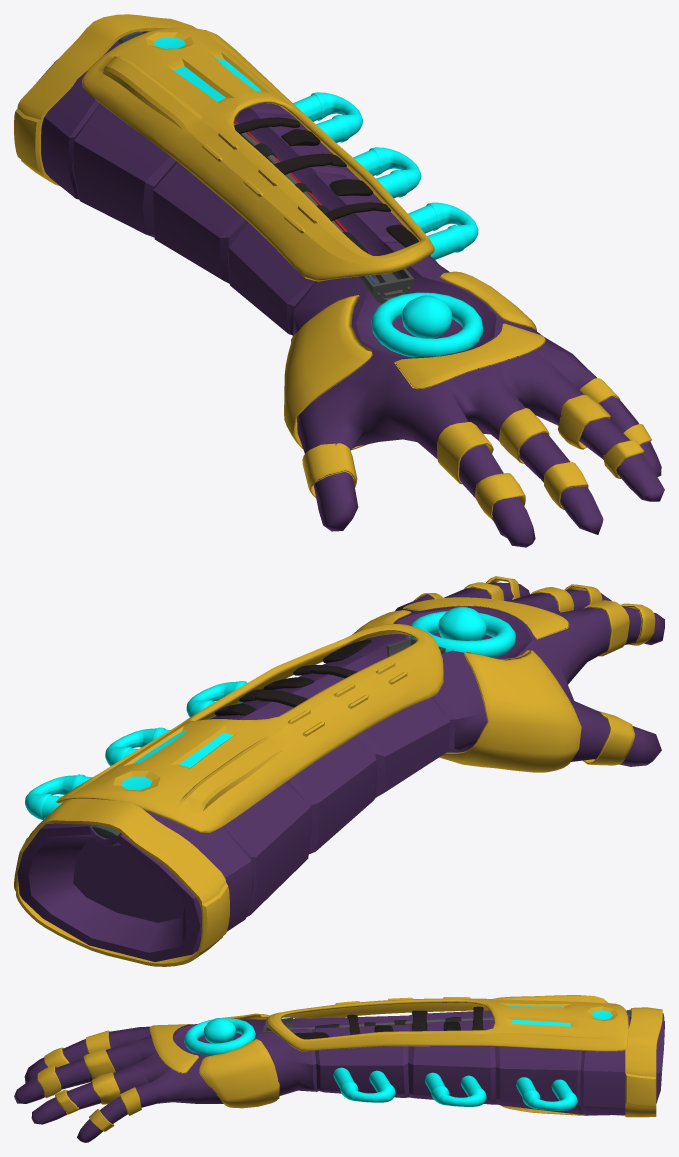
File: Finaly_handFBX.fbx
3 renders of one model, top to bottom at view 1: azimuth 30°, elevation 25°; view 2: azimuth 150°, elevation 25°; view 3: azimuth 270°, elevation 25°, orthographic. The views are drawn at different scales.
Visible parts, largest first — view 1: pasted__polySurface34, pasted__polySurface38, polySurface30, polySurface9, pTorus2, polySurface31, pasted__pCylinder14, pasted__pCylinder12, pasted__pCylinder13, pSphere1, polySurface26, polySurface25 (+7 smaller); view 2: pasted__polySurface34, pasted__polySurface38, polySurface30, polySurface9, polySurface31, pTorus2, pasted__pCylinder12, polySurface25, pSphere1, polySurface26, pasted__pCylinder13, pasted__pCylinder14 (+2 smaller); view 3: pasted__polySurface34, pasted__polySurface38, polySurface30, polySurface9, pTorus2, polySurface31, pasted__pCylinder14, pasted__pCylinder13, pasted__pCylinder12, pSphere1, polySurface28, polySurface27 (+9 smaller).
Part boxes in pixels (x1=…): pasted__polySurface34: x1=36, y1=31, x2=664, y2=547; pasted__polySurface38: x1=82, y1=27, x2=434, y2=281; polySurface30: x1=284, y1=271, x2=536, y2=450; polySurface9: x1=14, y1=14, x2=195, y2=185; pTorus2: x1=371, y1=292, x2=483, y2=357; polySurface31: x1=394, y1=323, x2=545, y2=389; pasted__pCylinder14: x1=408, y1=202, x2=478, y2=259; pasted__pCylinder12: x1=293, y1=92, x2=362, y2=142; pasted__pCylinder13: x1=353, y1=147, x2=421, y2=198; pSphere1: x1=401, y1=295, x2=452, y2=338; polySurface26: x1=437, y1=422, x2=493, y2=484; polySurface25: x1=302, y1=443, x2=357, y2=498; pasted__polySurface34: x1=17, y1=582, x2=664, y2=961; pasted__polySurface38: x1=56, y1=624, x2=443, y2=832; polySurface30: x1=352, y1=610, x2=581, y2=772; polySurface9: x1=14, y1=798, x2=229, y2=966; polySurface31: x1=403, y1=597, x2=569, y2=639; pTorus2: x1=408, y1=611, x2=515, y2=657; pasted__pCylinder12: x1=25, y1=774, x2=92, y2=819; polySurface25: x1=583, y1=711, x2=635, y2=765; pSphere1: x1=438, y1=607, x2=486, y2=640; polySurface26: x1=583, y1=600, x2=629, y2=656; pasted__pCylinder13: x1=105, y1=727, x2=169, y2=766; pasted__pCylinder14: x1=186, y1=681, x2=247, y2=718; pasted__polySurface34: x1=14, y1=1010, x2=664, y2=1142; pasted__polySurface38: x1=266, y1=995, x2=628, y2=1051; polySurface30: x1=199, y1=1013, x2=279, y2=1108; polySurface9: x1=501, y1=1007, x2=662, y2=1117; pTorus2: x1=184, y1=1018, x2=255, y2=1055; polySurface31: x1=149, y1=1024, x2=198, y2=1073; pasted__pCylinder14: x1=333, y1=1067, x2=395, y2=1102; pasted__pCylinder13: x1=425, y1=1072, x2=486, y2=1106; pasted__pCylinder12: x1=516, y1=1077, x2=577, y2=1110; pSphere1: x1=203, y1=1018, x2=235, y2=1043; polySurface28: x1=92, y1=1072, x2=120, y2=1104; polySurface27: x1=83, y1=1049, x2=115, y2=1079.
Size of the model in its own units: 5.51 by 3.03 by 14.21.
